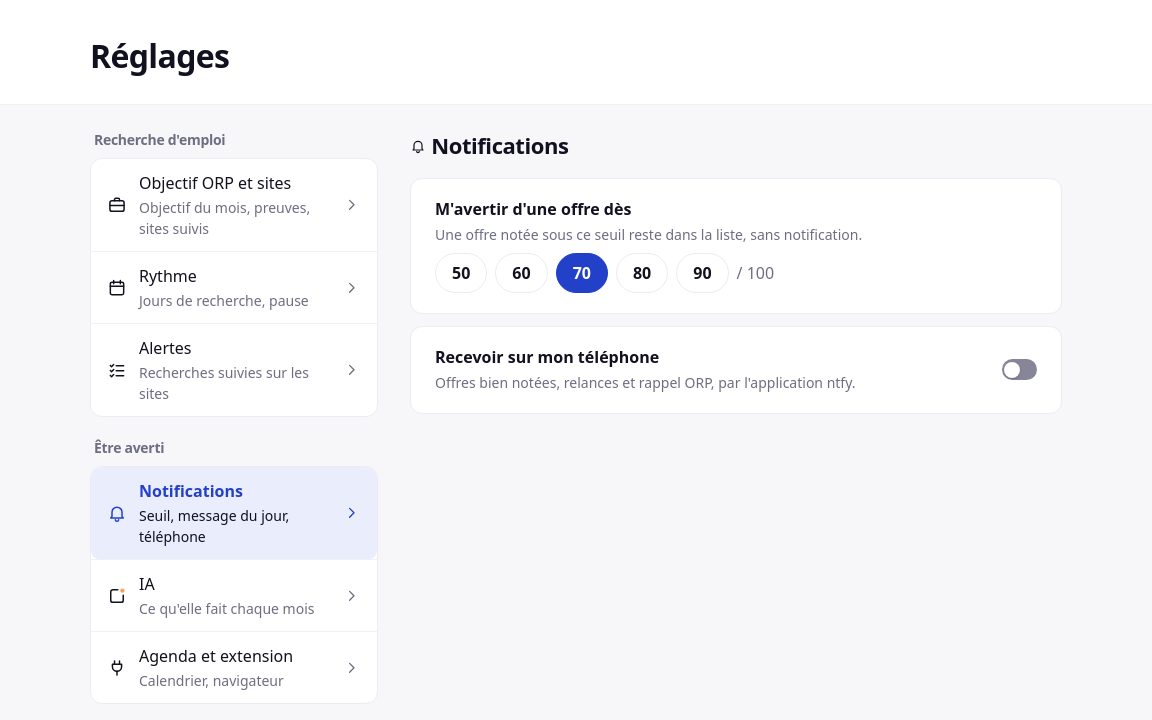
Test: SettingsView, comptes (docs/65) › compte invité : active les notifications sur son téléphone
Click the switch with test id "phone-switch": (1019, 370) [1002,359,1037,380]
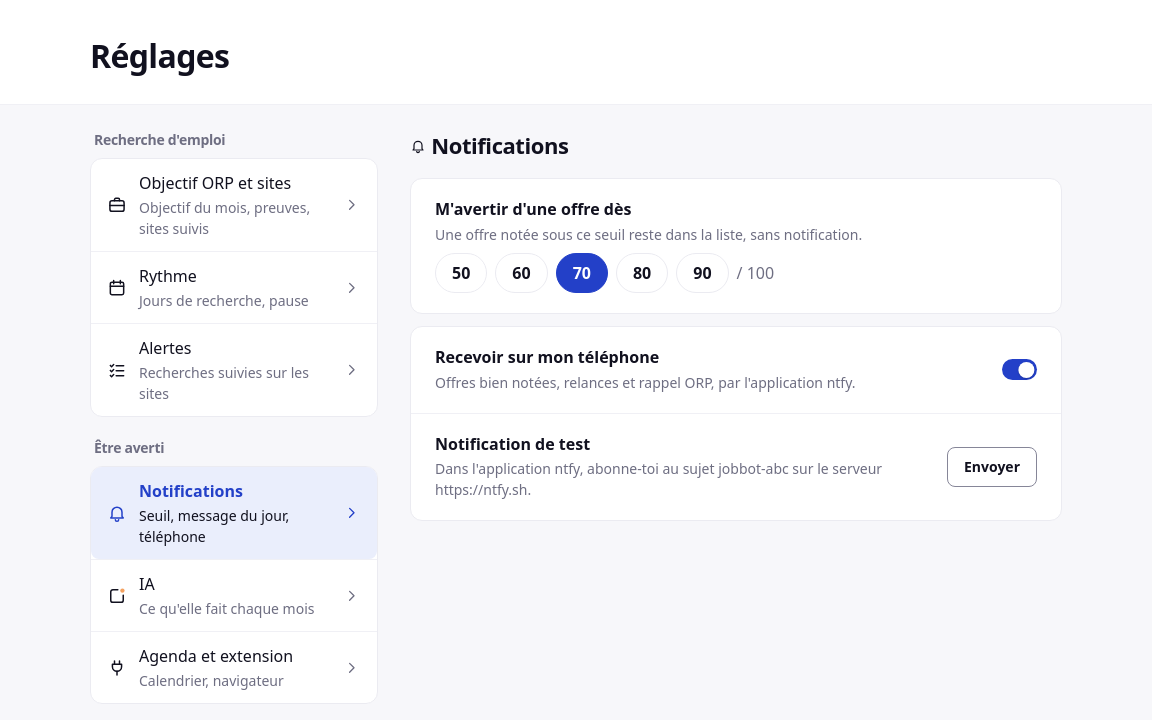
Result: the element with test id "phone-on" shows "jobbot-abc" at [435,459,882,499]
